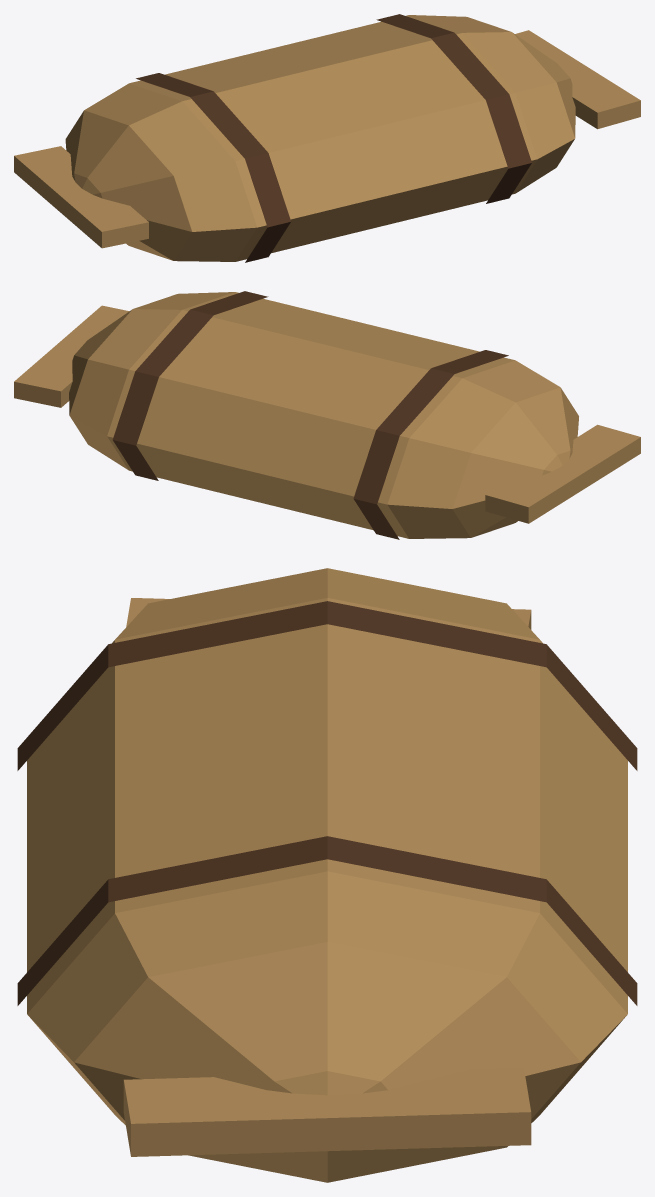
The model's file is sandbag.glb.
The picture shows the model from 3 angles, top to bottom: view 1: azimuth 30°, elevation 25°; view 2: azimuth 150°, elevation 25°; view 3: azimuth 270°, elevation 25°; orthographic projection. The views are drawn at different scales.
Visible parts, largest first — view 1: Merged; view 2: Merged; view 3: Merged.
Boxes of the visible parts, x1,y1,x2,y2 form: Merged: [14, 14, 640, 262]; Merged: [14, 291, 640, 539]; Merged: [17, 568, 637, 1182].
Bounding box in the file's own units: 0.4506 × 0.1176 × 0.2243.
